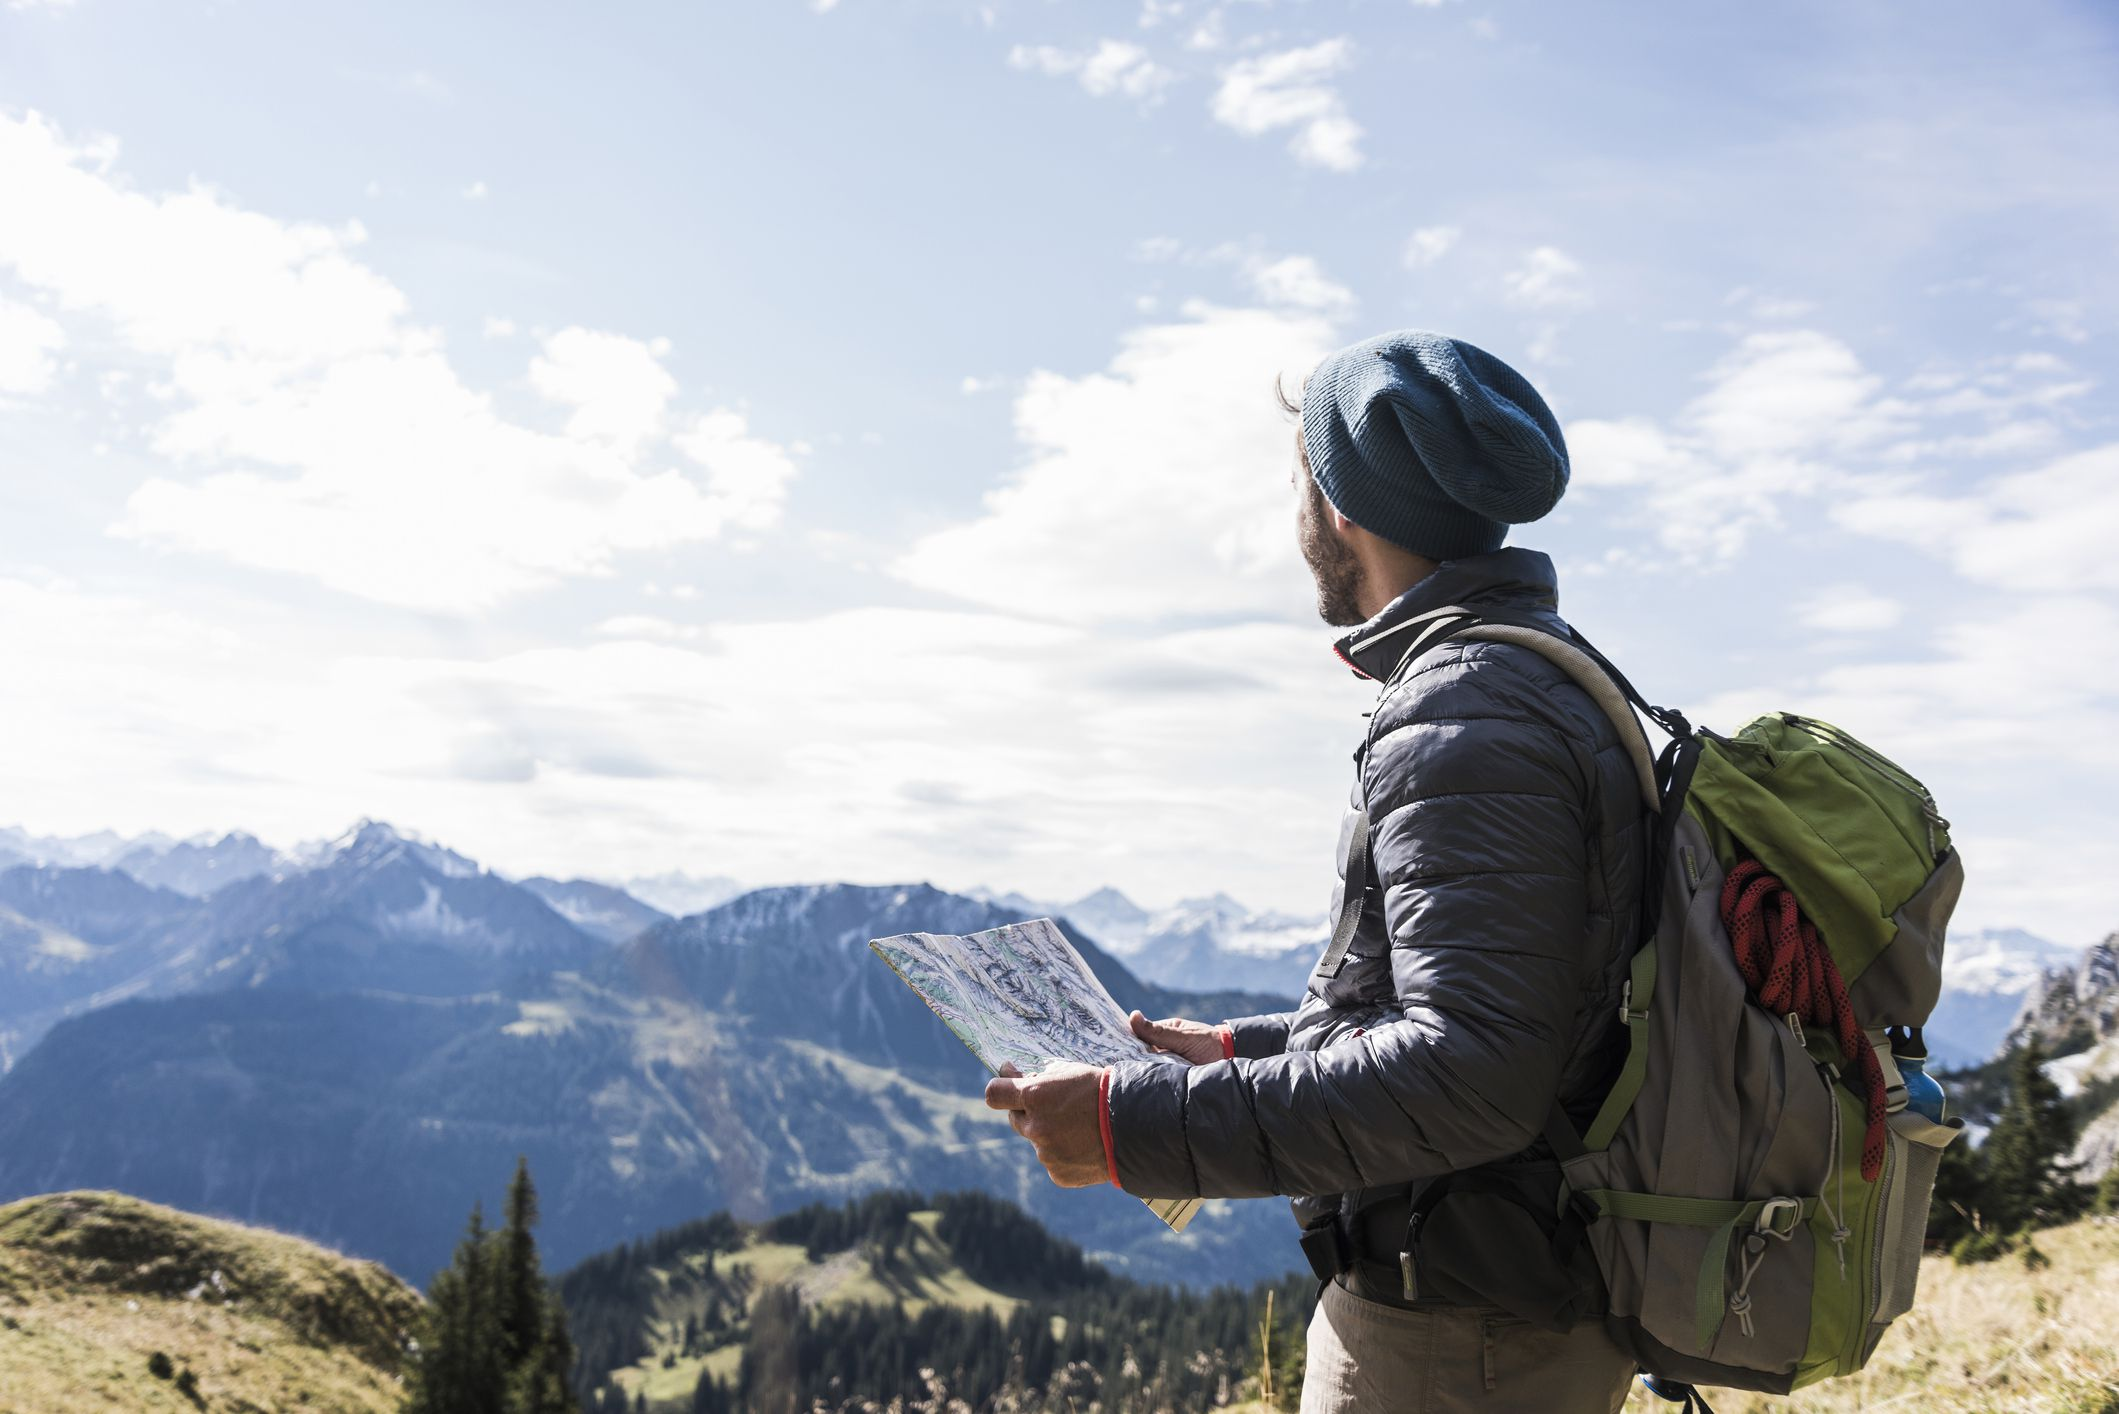backpack: (1586, 679, 1986, 1401)
